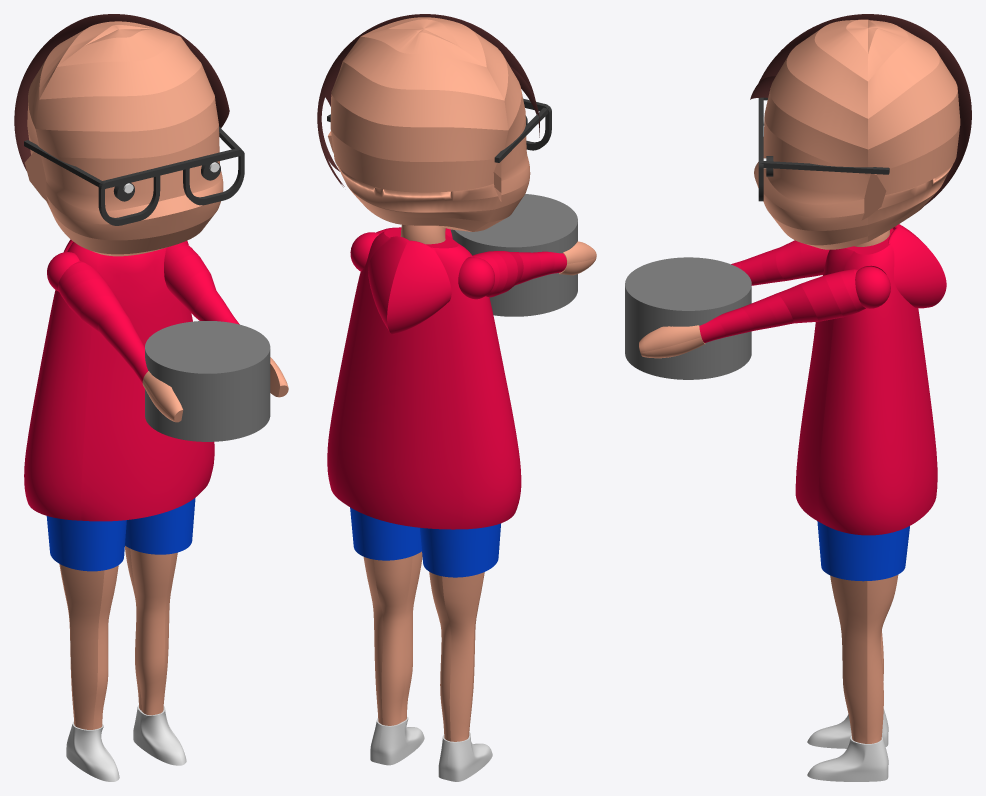
Rendered from Rain.fbx.
The picture shows the model from 3 angles, left to right: view 1: azimuth 30°, elevation 25°; view 2: azimuth 150°, elevation 25°; view 3: azimuth 270°, elevation 25°; orthographic projection.
Visible parts, largest first — view 1: Body, Sweater, Object_20, Shorts, Eyes, Shoes, Hair; view 2: Sweater, Body, Object_20, Shorts, Shoes, Hair, Eyes; view 3: Body, Sweater, Object_20, Shorts, Hair, Shoes, Eyes.
Part boxes in pixels (box(x1,y1,x2,y2)): Body: box(24, 21, 288, 729); Sweater: box(24, 239, 239, 521); Object_20: box(145, 321, 270, 441); Shorts: box(46, 498, 195, 571); Eyes: box(24, 126, 244, 225); Shoes: box(66, 705, 186, 781); Hair: box(14, 14, 229, 170); Sweater: box(327, 227, 566, 529); Body: box(328, 17, 596, 741); Object_20: box(450, 194, 577, 316); Shorts: box(350, 507, 500, 577); Shoes: box(370, 717, 492, 781); Hair: box(317, 14, 539, 187); Eyes: box(327, 98, 551, 162); Body: box(639, 19, 960, 743); Sweater: box(699, 224, 946, 535); Object_20: box(625, 257, 751, 379); Shorts: box(817, 521, 909, 581); Hair: box(750, 14, 971, 209); Shoes: box(807, 709, 888, 781); Eyes: box(758, 97, 889, 201).
Bounding box in the file's own units: 1.72 × 6.39 × 2.74.
